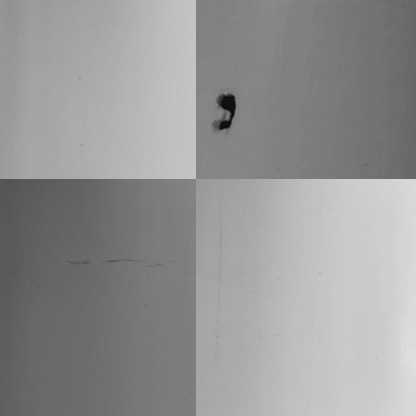kongdong: (209, 89, 238, 137)
